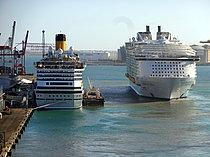Ship: (122, 24, 203, 104), (33, 44, 88, 110)
